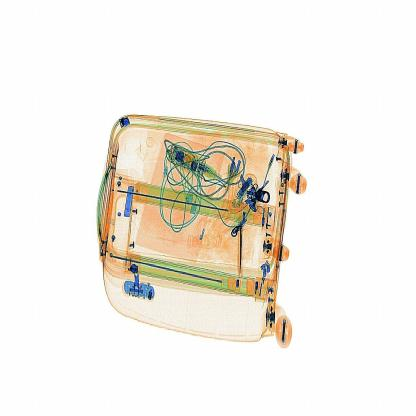wrench: (230, 208, 253, 290)
